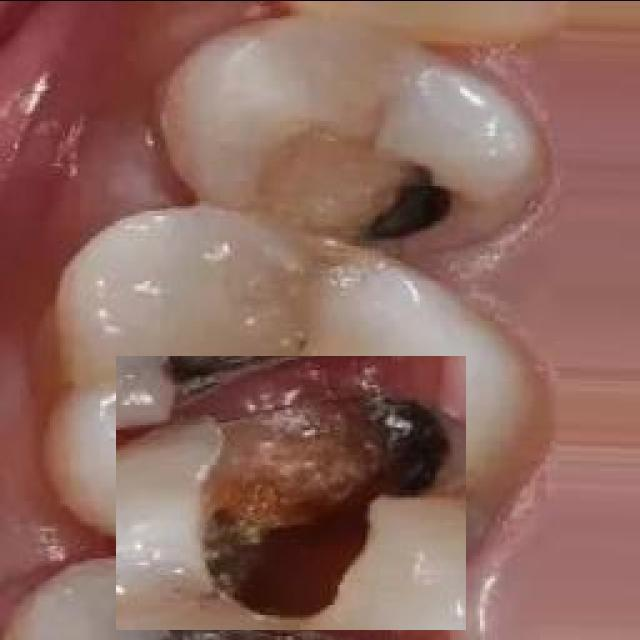caries: (116, 355, 466, 629)
